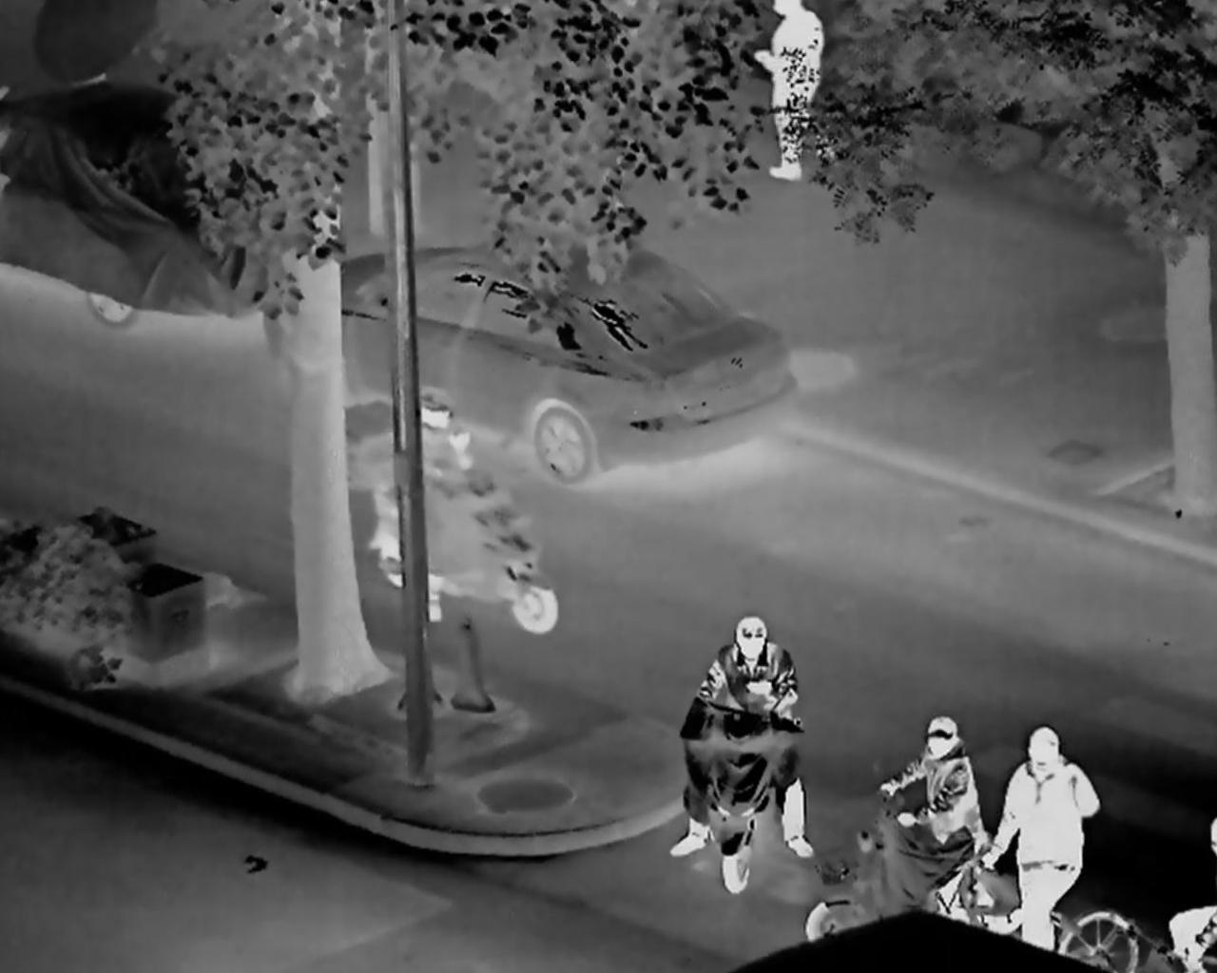person: (664, 604, 814, 884), (987, 715, 1097, 971), (880, 712, 991, 931), (404, 388, 485, 611)
